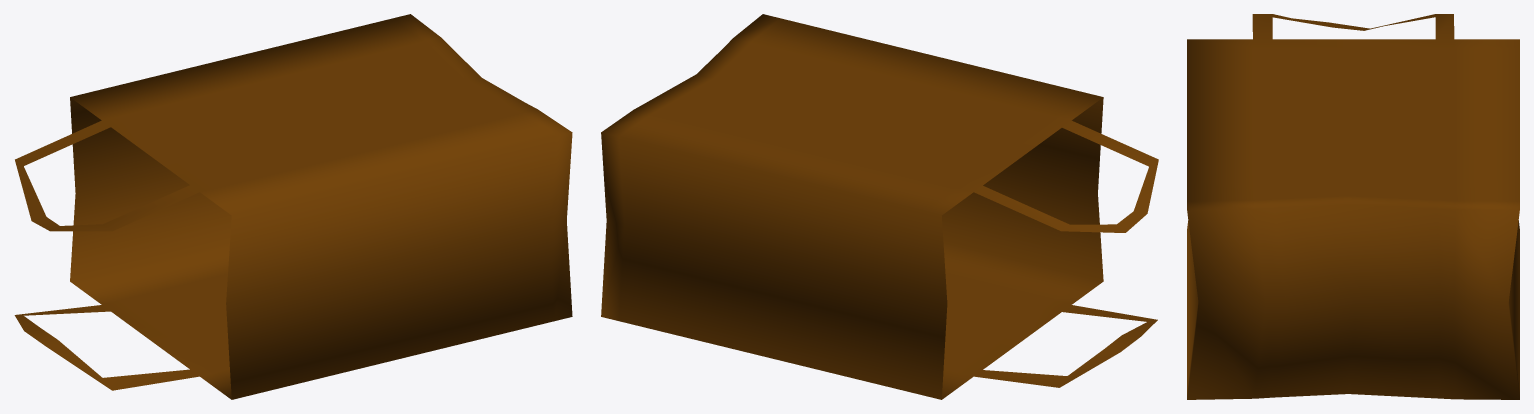
File: Bolsa_Compra.fbx
3 views of the same model, side by side, from view 1: azimuth 30°, elevation 25°; view 2: azimuth 150°, elevation 25°; view 3: azimuth 270°, elevation 25° (orthographic). The views are drawn at different scales.
Visible parts, largest first — view 1: Bolsa Compra; view 2: Bolsa Compra; view 3: Bolsa Compra.
Boxes of the visible parts, left/top/right/bottom form: Bolsa Compra: left=14, top=14, right=572, bottom=399; Bolsa Compra: left=601, top=14, right=1158, bottom=399; Bolsa Compra: left=1187, top=14, right=1519, bottom=399.
Bounding box in the file's own units: 336 × 130 × 208.
